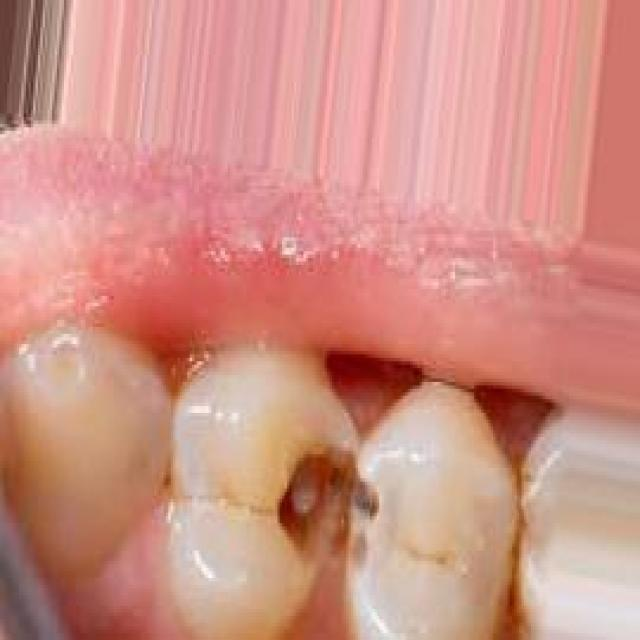caries: (264, 402, 391, 596)
